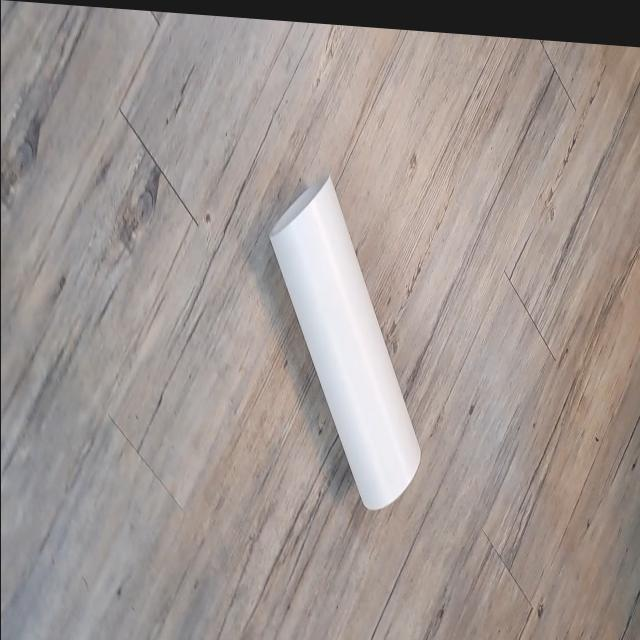CORAL: (254, 150, 428, 529)
